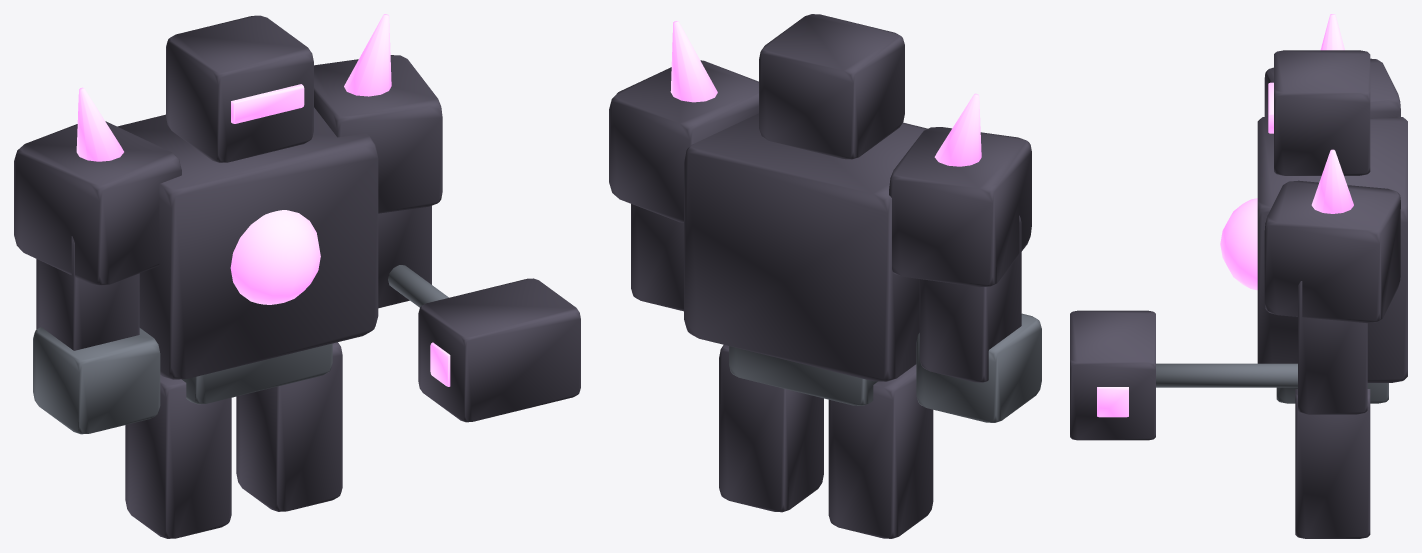
File: enemy_golem.glb
The picture shows the model from 3 angles, left to right: view 1: azimuth 30°, elevation 25°; view 2: azimuth 150°, elevation 25°; view 3: azimuth 270°, elevation 25°; orthographic projection. The views are drawn at different scales.
Visible parts, largest first — view 1: GolemChest, GolemShoulderL, HammerHead, GolemHead, GolemLegL, GolemLegR, GolemShoulderR, GolemFistL, GolemArmL, GolemCore, GolemWaist, GolemArmR (+5 smaller); view 2: GolemChest, GolemShoulderL, GolemHead, GolemLegL, GolemShoulderR, GolemLegR, GolemArmL, GolemFistL, GolemArmR, GolemWaist, CrystalSpikeR, CrystalSpikeL; view 3: GolemShoulderR, GolemHead, GolemChest, HammerHead, GolemLegR, GolemArmR, HammerShaft, GolemCore, GolemShoulderL, CrystalSpikeR, HammerRune, GolemWaist (+1 smaller).
Boxes of the visible parts, box(x1,y1,x2,y2) form: GolemChest: box(117, 107, 378, 379); GolemShoulderL: box(14, 121, 181, 285); HammerHead: box(418, 278, 580, 422); GolemHead: box(166, 15, 313, 162); GolemLegL: box(125, 375, 231, 538); GolemLegR: box(236, 342, 342, 511); GolemShoulderR: box(314, 55, 442, 213); GolemFistL: box(33, 327, 160, 434); GolemArmL: box(36, 236, 139, 350); GolemCore: box(230, 210, 320, 304); GolemWaist: box(182, 343, 332, 404); GolemArmR: box(378, 205, 431, 308); GolemChest: box(684, 113, 927, 381); GolemShoulderL: box(889, 127, 1031, 287); GolemHead: box(759, 14, 904, 159); GolemLegL: box(828, 364, 933, 538); GolemShoulderR: box(609, 60, 758, 222); GolemLegR: box(719, 345, 823, 512); GolemArmL: box(919, 215, 1021, 382); GolemFistL: box(916, 313, 1041, 422); GolemArmR: box(631, 204, 683, 311); GolemWaist: box(729, 346, 877, 405); CrystalSpikeR: box(670, 21, 717, 102); CrystalSpikeL: box(934, 93, 981, 166); GolemShoulderR: box(1264, 180, 1400, 323); GolemHead: box(1274, 50, 1370, 175); GolemChest: box(1257, 116, 1407, 382); HammerHead: box(1070, 310, 1155, 440); GolemLegR: box(1295, 389, 1370, 538); GolemArmR: box(1298, 281, 1367, 414); HammerShaft: box(1156, 363, 1297, 387); GolemCore: box(1220, 198, 1257, 290); GolemShoulderL: box(1264, 58, 1400, 118); CrystalSpikeR: box(1311, 149, 1353, 213); HammerRune: box(1097, 387, 1128, 417); GolemWaist: box(1276, 383, 1388, 403).
Size of the model in its own units: 1.59 by 1.76 by 1.26.
